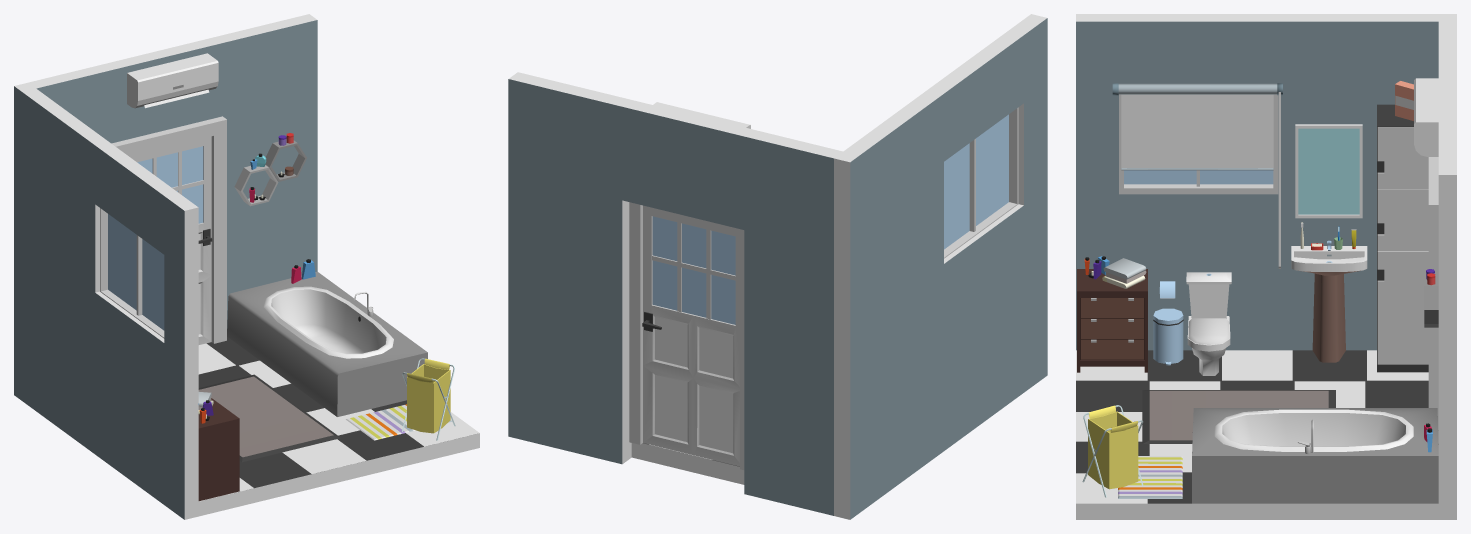
Rendered from room_21.glb.
3 renders of one model, left to right at view 1: azimuth 30°, elevation 25°; view 2: azimuth 150°, elevation 25°; view 3: azimuth 270°, elevation 25°, orthographic. The views are drawn at different scales.
Visible parts, largest first — view 1: Walls_116.003, Walls_116.001, bathroom_item_023.001, Walls_116.004, Walls_116.002, floor_022.001, carpet_001.006, window_029.005, Walls_116.007, door_023.002, door_024.002, Walls_116.005 (+7 smaller); view 2: Walls_116.001, Walls_116.003, Walls_116.006, door_023.002, Walls_116.004, Walls_116.007, Walls_116.002, window_029.005, Walls_116.005, door_024.002, Walls_011.013; view 3: Walls_116.003, bathroom_item_023.001, Walls_116.004, floor_022.001, Curtains_026.005, closet_027.001, Walls_116.002, Walls_116.005, Walls_116.001, Walls_011.013, picture_041.007, shelf_001.001 (+14 smaller).
Part boxes in pixels (x1,y1,x2,y2): Walls_116.003: (14,82,108,454); Walls_116.001: (211,14,317,328); bathroom_item_023.001: (227,271,427,416); Walls_116.004: (95,291,164,504); Walls_116.002: (164,192,198,519); floor_022.001: (198,336,479,501); carpet_001.006: (198,374,340,462); window_029.005: (100,208,164,338); Walls_116.007: (106,38,218,142); door_023.002: (129,136,212,344); door_024.002: (111,116,226,343); Walls_116.005: (95,142,177,254); Walls_116.001: (508,72,631,464); Walls_116.003: (834,89,943,519); Walls_116.006: (744,130,842,515); door_023.002: (642,205,739,466); Walls_116.004: (944,204,1023,450); Walls_116.007: (622,100,753,229); Walls_116.002: (1008,14,1047,392); window_029.005: (944,107,1018,258); Walls_116.005: (928,31,1023,161); door_024.002: (629,202,744,469); Walls_011.013: (631,443,744,484); Walls_116.003: (1275,14,1456,350); bathroom_item_023.001: (1192,408,1438,503); Walls_116.004: (1121,194,1275,350); floor_022.001: (1076,350,1428,503); Curtains_026.005: (1112,83,1282,268); closet_027.001: (1377,104,1428,372); Walls_116.002: (1076,14,1121,350); Walls_116.005: (1121,14,1275,83); Walls_116.001: (1438,121,1456,519); Walls_011.013: (1076,350,1438,519); picture_041.007: (1295,124,1362,218); shelf_001.001: (1077,269,1147,372).
Size of the model in its own units: 4.2 by 4.2 by 4.2.
1 material, 1 textured.
